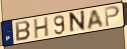9: (53, 15, 66, 35)
A: (87, 8, 105, 31)
B: (15, 21, 32, 43)
H: (34, 16, 50, 40)
N: (69, 10, 87, 35)
P: (104, 4, 121, 28)
